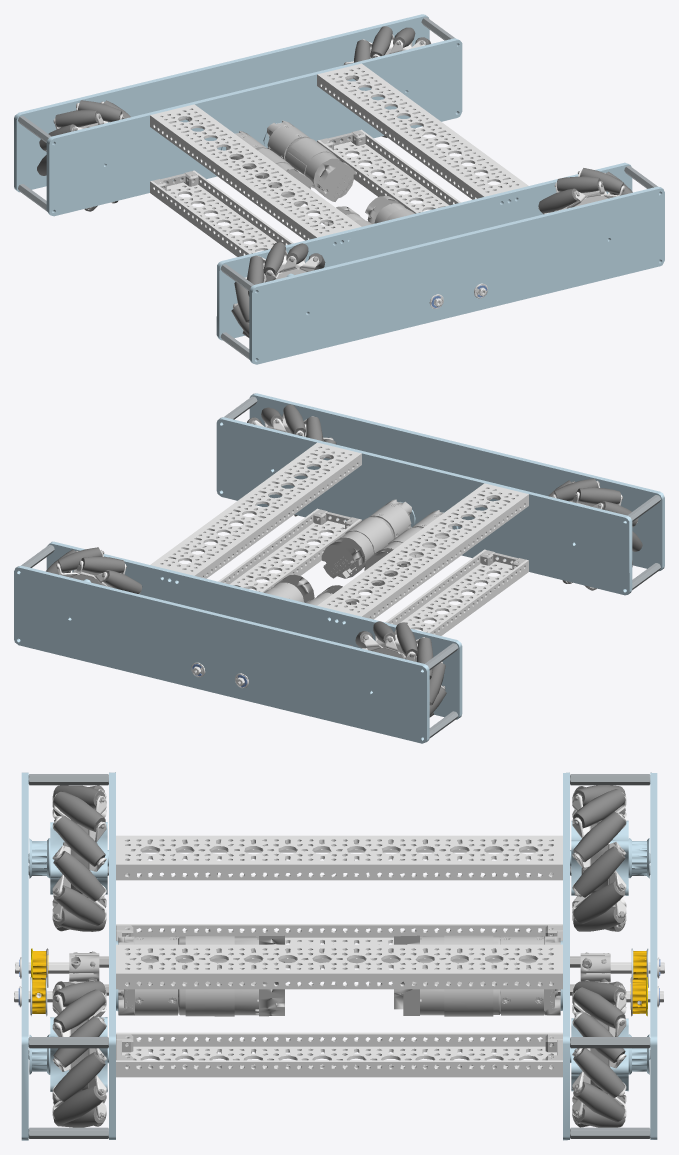
File: practice-drivetrain-optimized.glb
3 renders of one model, top to bottom at view 1: azimuth 30°, elevation 25°; view 2: azimuth 150°, elevation 25°; view 3: azimuth 270°, elevation 25°, orthographic. The views are drawn at different scales.
Parts seen in each view (by area): view 1: 1205 Series Dual Block Mount (1-5) - 2 Pack 1205-0001-0005; view 2: 1205 Series Dual Block Mount (1-5) - 2 Pack 1205-0001-0005; view 3: 1205 Series Dual Block Mount (1-5) - 2 Pack 1205-0001-0005.
Part boxes in pixels (<box>): 1205 Series Dual Block Mount (1-5) - 2 Pack 1205-0001-0005: <box>14,14,664,364</box>; 1205 Series Dual Block Mount (1-5) - 2 Pack 1205-0001-0005: <box>14,393,664,743</box>; 1205 Series Dual Block Mount (1-5) - 2 Pack 1205-0001-0005: <box>14,772,664,1140</box>.
Bounding box in the file's own units: 0.4445 × 0.1029 × 0.4546.
1 material, 1 textured.
